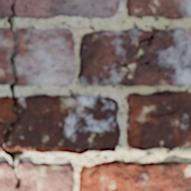brick: (79, 29, 190, 86), (127, 92, 190, 150), (79, 161, 190, 190), (127, 0, 190, 18)
broken_brick: (7, 93, 121, 155), (15, 27, 76, 86), (0, 0, 121, 19), (0, 161, 74, 190), (0, 95, 17, 140), (0, 27, 12, 85)
crack: (0, 2, 24, 188), (157, 91, 172, 96)
